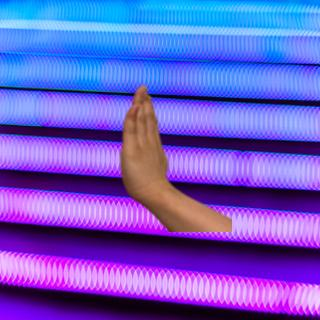RIGHT: (115, 82, 172, 206)
